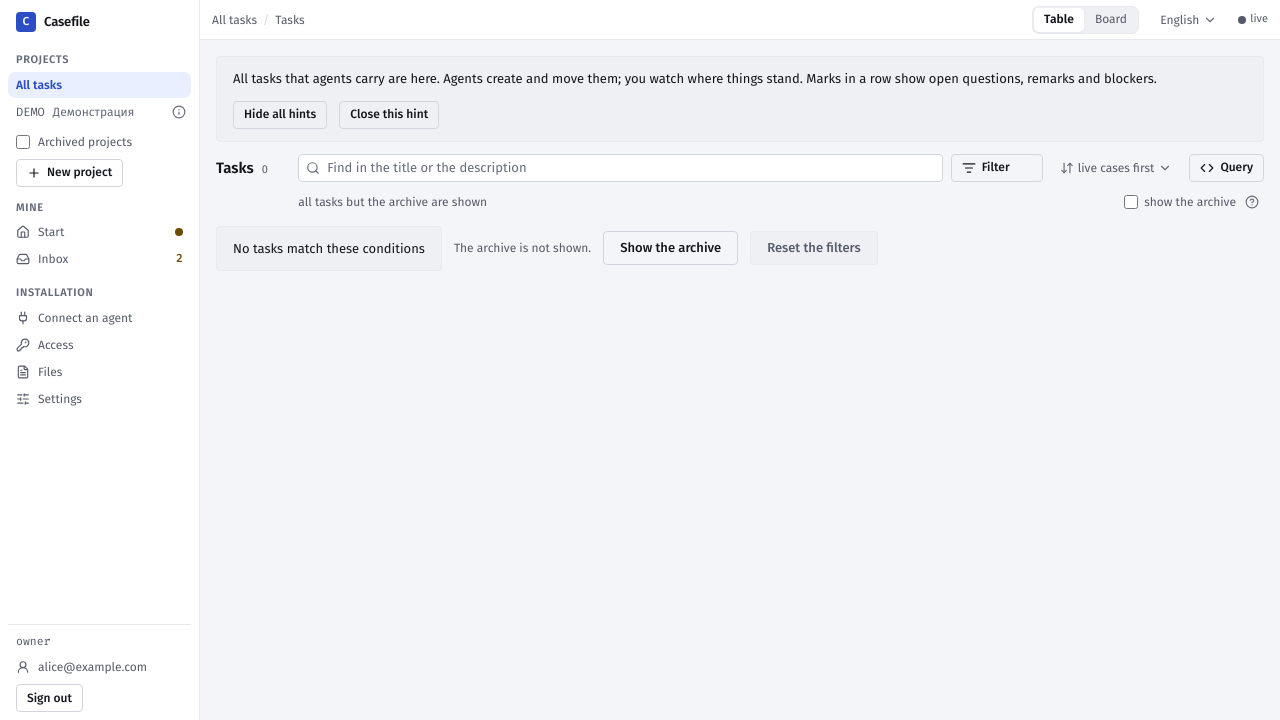
Test: экран «Моя учётная запись» › открывается из панели почтой и называет себя
The width and height of the screenshot is (1280, 720).
Step 1. Click the link "alice@example.com" → (82, 667), box [8,654,155,680]
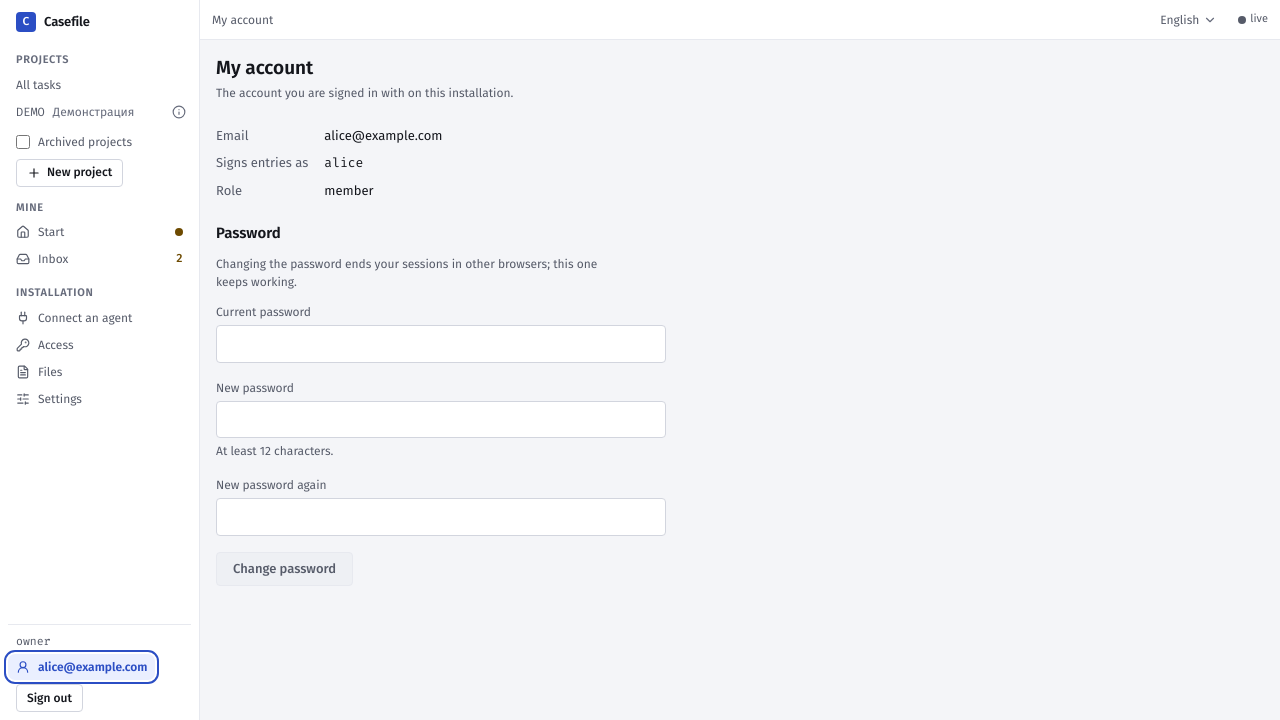
Expected: the text "alice@example.com" next to "Email" is shown, [324,128,442,143]
Expected: the text "alice" is shown, [324,154,363,171]
Expected: the text "member" is shown, [324,183,374,198]
